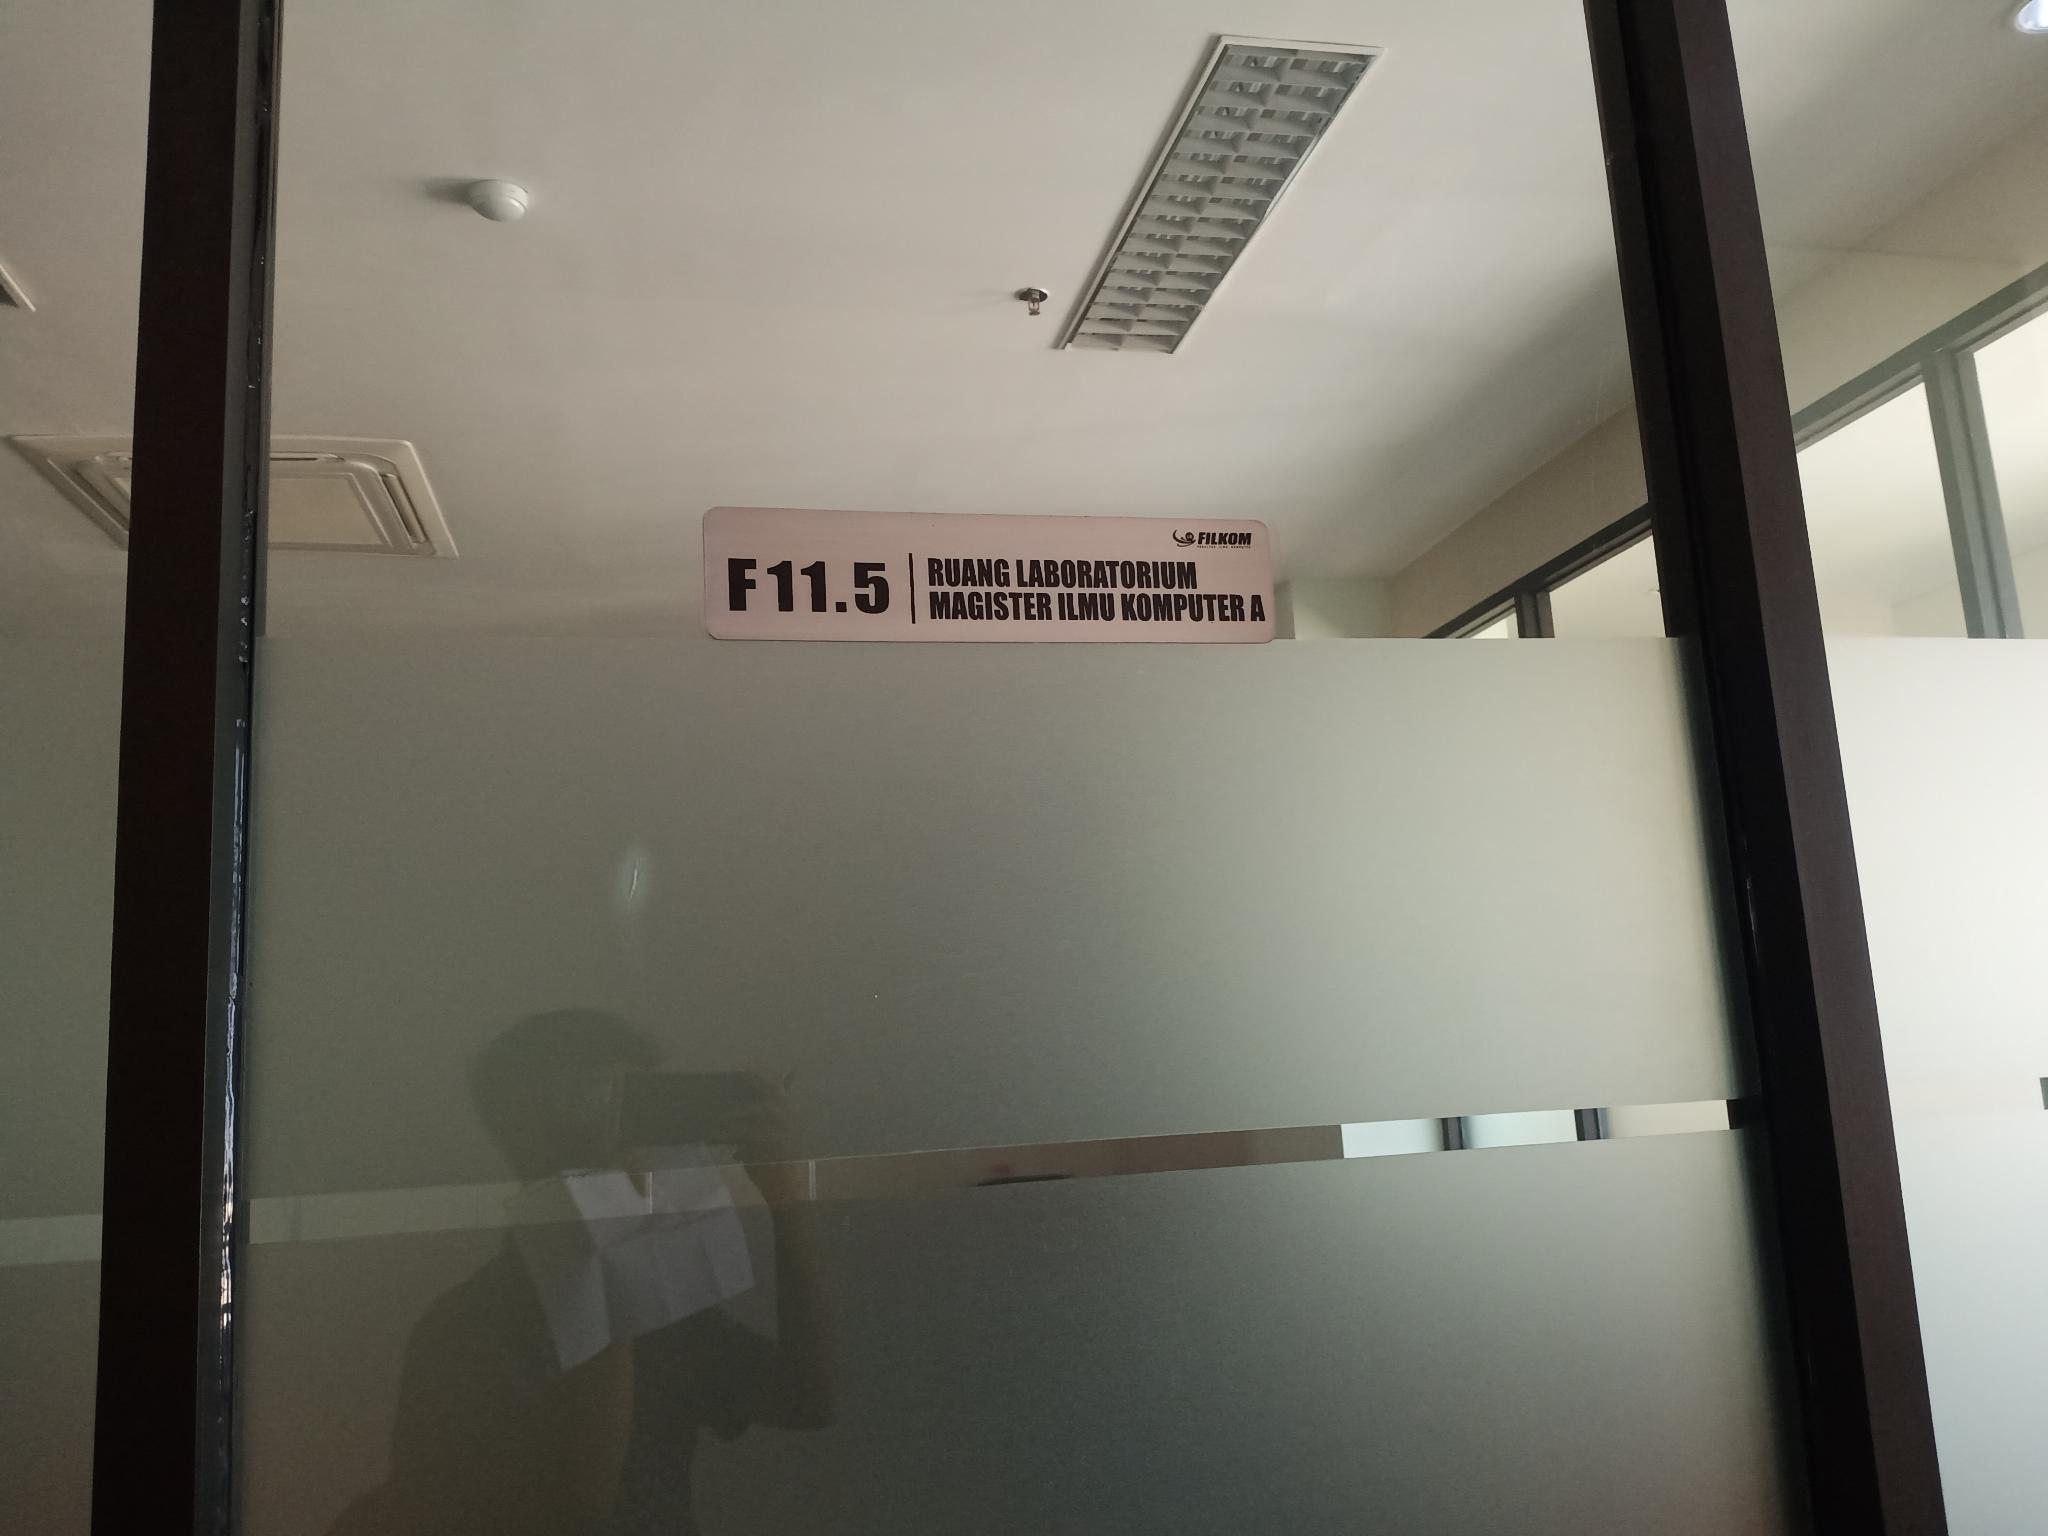plate: (701, 502, 1279, 647)
